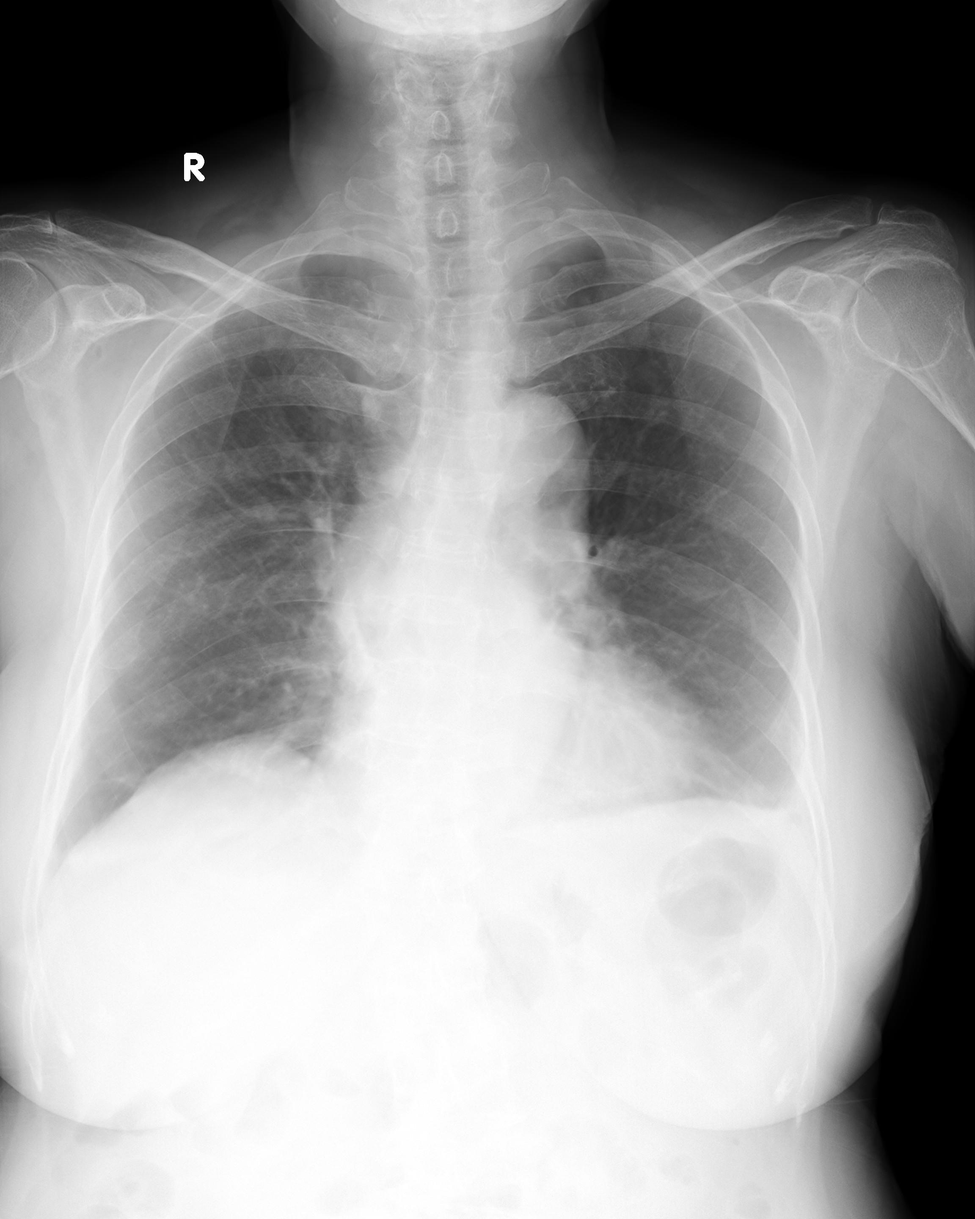Aortic enlargement: (462, 394, 591, 531)
Cardiomegaly: (312, 685, 738, 798)
